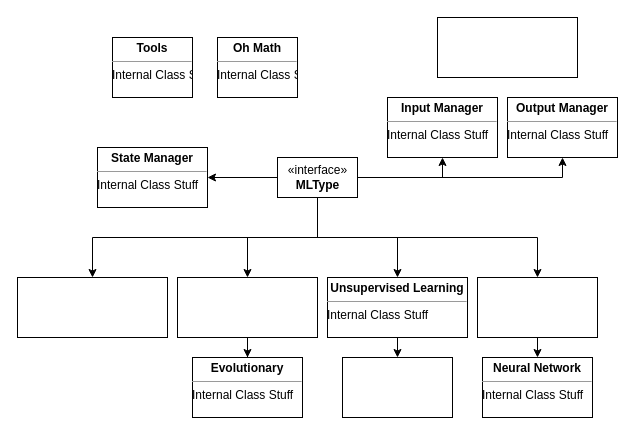
The diagram is 635 pixels wide and 435 high, and some of its shapes have lost their labels. Here are the shapes that lost their labels. From the top down, the centre of each, then its label:
At point (507, 47): "File Manager Internal Class Stuff".
At point (92, 307): "Reinforcement Learning Internal Class Stuff".
At point (247, 307): "Supervised Learning Internal Class Stuff".
At point (537, 307): "Deep Learning Internal Class Stuff".
At point (397, 387): "K Means Cluster Internal Class Stuff".
